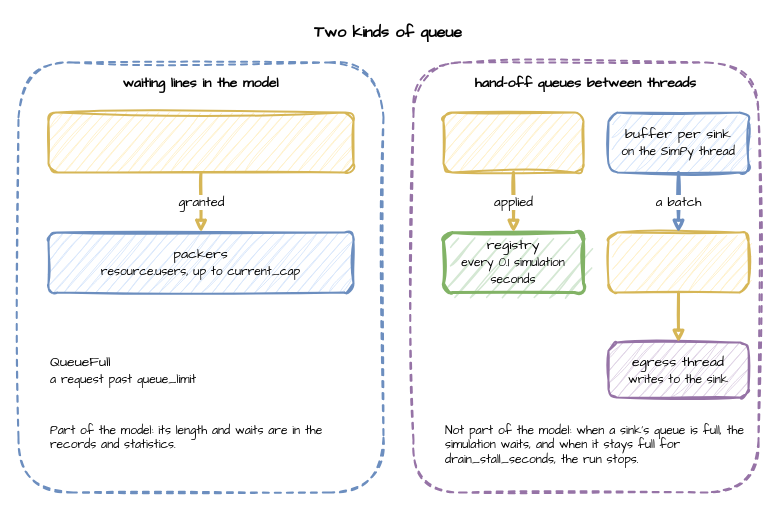
Some shapes in this 776 by 510 pixel diagram are drawn without their labels. The shapes that lost their labels are listed below. From the top down, each one's centre as x and y in pixels, then its label:
At (x=200, y=142): "orders-3, orders-4 resource.queue: fifo, lifo or priority".
At (x=513, y=142): "ingress queue no limit".
At (x=678, y=262): "queue per sink at most max_queued_batches".
